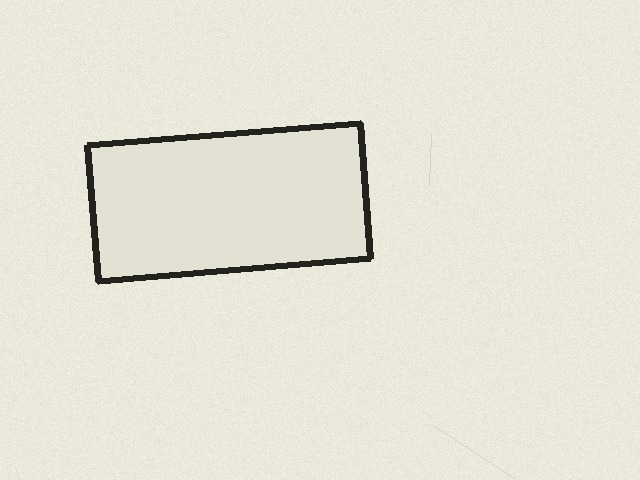parking_area: (87, 123, 370, 281)
